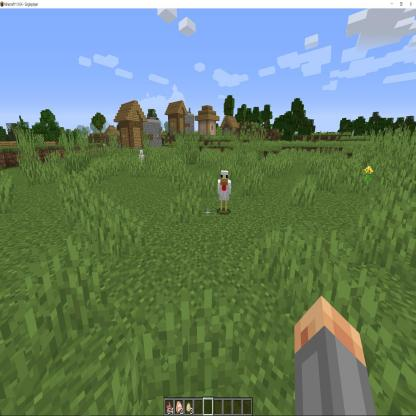minecraft-pigs: (214, 166, 233, 220), (135, 147, 148, 173)
